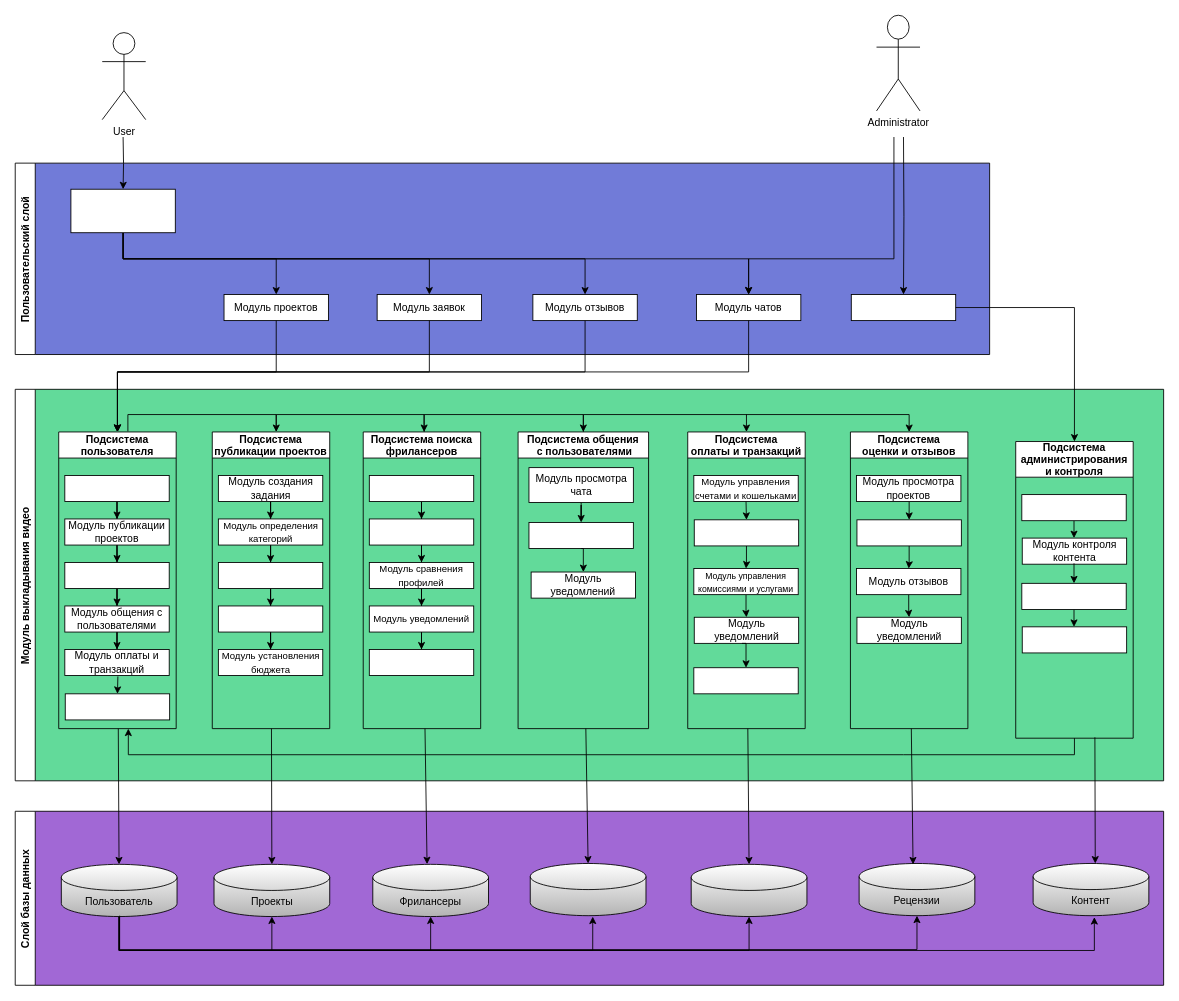
The diagram is 1179 pixels wide and 1001 high, and some of its shapes have lost their labels. The centre of each missing label's shape, as x and y in pixels:
"Аутентификация и авторизация пользователей" goes at point (122, 210).
"Модуль администрации" goes at point (1073, 507).
"Модуль блокировки пользователей" goes at point (1074, 639).
"Модуль контроля жалоб" goes at point (1073, 595).
"Модуль отправки сообщений" goes at point (580, 535).
"Модуль оценки и отзывов" goes at point (117, 706).
"Модуль оценки проектов" goes at point (908, 532).
"Модуль поиска по категориям" goes at point (421, 488).
"Модуль поиска фрилансеров" goes at point (116, 575).
"Модуль пользователя" goes at point (116, 488).
"Модуль прикрепления файлов и описания" goes at point (270, 575).
"Модуль разрешения конфликтов" goes at point (745, 680).
"Модуль управления" goes at point (903, 307).
"Модуль управления транзакциями" goes at point (746, 532).
"Модуль установления сроков" goes at point (270, 618).
"Модуль фильтрации результатов" goes at point (421, 531).
"Модуль чатов и коммуникаций" goes at point (421, 662).
"Платежи" goes at point (748, 890).
"Чаты" goes at point (587, 889).
